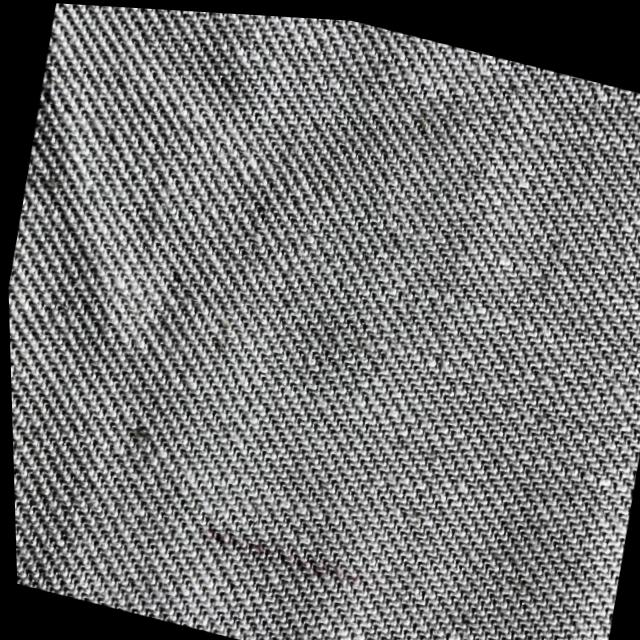Hole: (198, 523, 357, 583)
